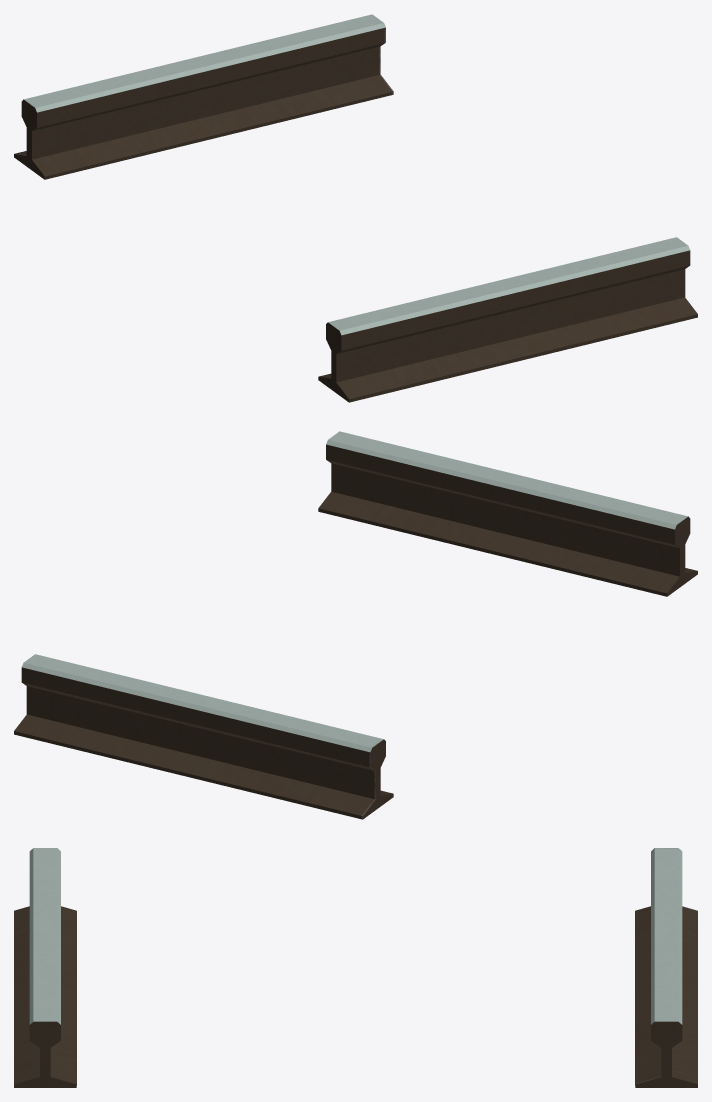
Rendered from spsf_tramtracks4.obj.
3 views of the same model, one above another, from view 1: azimuth 30°, elevation 25°; view 2: azimuth 150°, elevation 25°; view 3: azimuth 270°, elevation 25° (orthographic). The views are drawn at different scales.
Visible parts, largest first — view 1: RAIL_LEFT, RAIL_RIGHT; view 2: RAIL_RIGHT, RAIL_LEFT; view 3: RAIL_LEFT, RAIL_RIGHT.
Boxes of the visible parts, x1=… form: RAIL_LEFT: x1=318, y1=237, x2=697, y2=402; RAIL_RIGHT: x1=14, y1=14, x2=393, y2=179; RAIL_RIGHT: x1=14, y1=654, x2=393, y2=819; RAIL_LEFT: x1=318, y1=431, x2=697, y2=596; RAIL_LEFT: x1=14, y1=848, x2=76, y2=1087; RAIL_RIGHT: x1=635, y1=848, x2=697, y2=1087.
Size of the model in its own units: 1 by 0.1778 by 1.66.
Materials: 1 (1 with a texture image).
